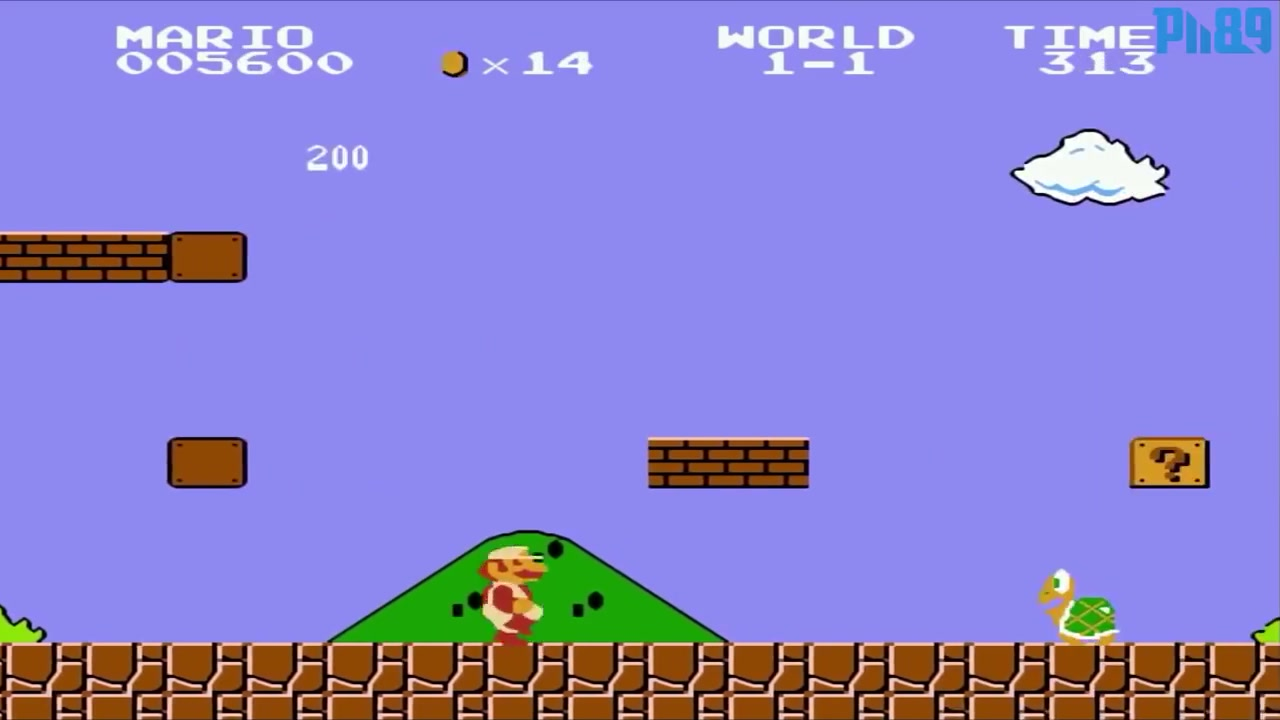mario: (472, 543, 551, 645)
